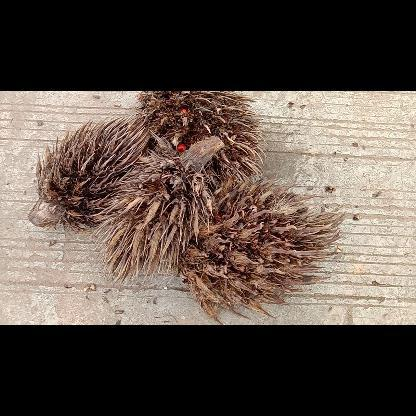Janjang kosong: (178, 180, 344, 324), (96, 135, 224, 283), (28, 114, 150, 236), (138, 90, 266, 182)
